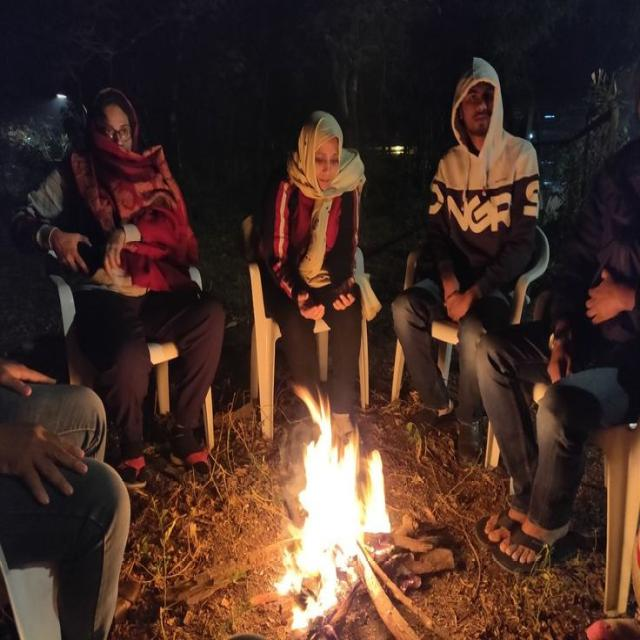fire: (274, 384, 364, 631), (363, 449, 390, 533)
